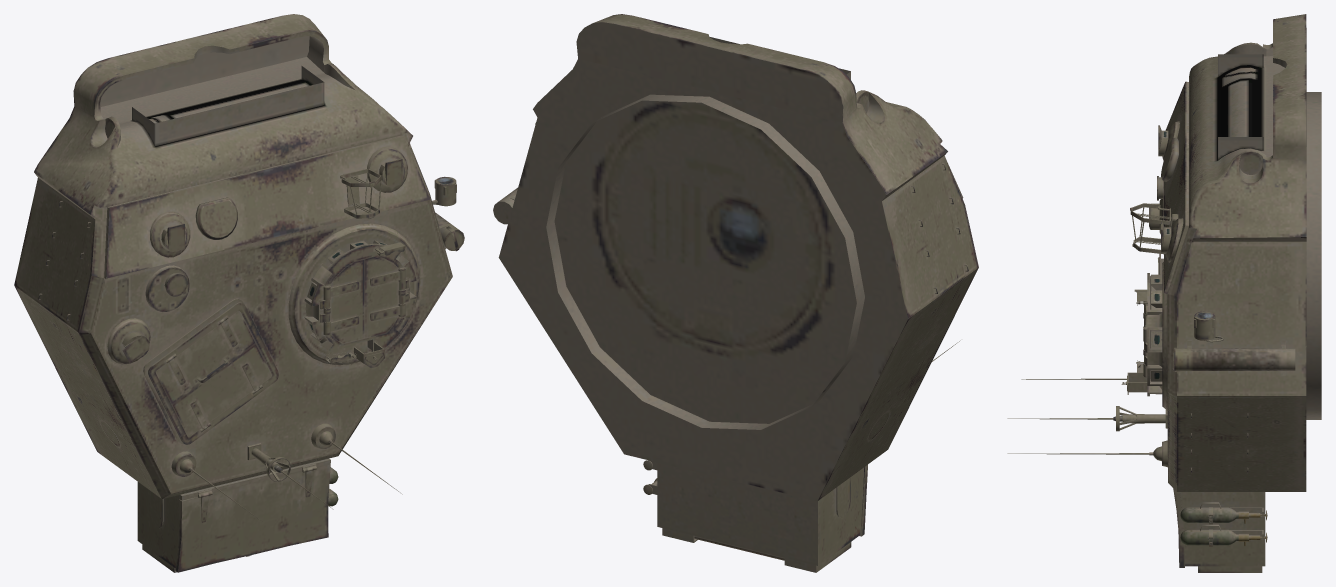
The model's file is Turret_01.glb.
3 renders of one model, left to right at view 1: azimuth 30°, elevation 25°; view 2: azimuth 150°, elevation 25°; view 3: azimuth 270°, elevation 25°, orthographic. The views are drawn at different scales.
Parts seen in each view (by area): view 1: set_0_group_0; view 2: set_0_group_0; view 3: set_0_group_0.
Boxes of the visible parts, left/top/right/bottom form: set_0_group_0: left=14, top=14, right=464, bottom=572; set_0_group_0: left=493, top=14, right=978, bottom=572; set_0_group_0: left=1007, top=14, right=1321, bottom=572.
Size of the model in its own units: 2.57 by 3 by 1.79.
1 material, 1 textured.
